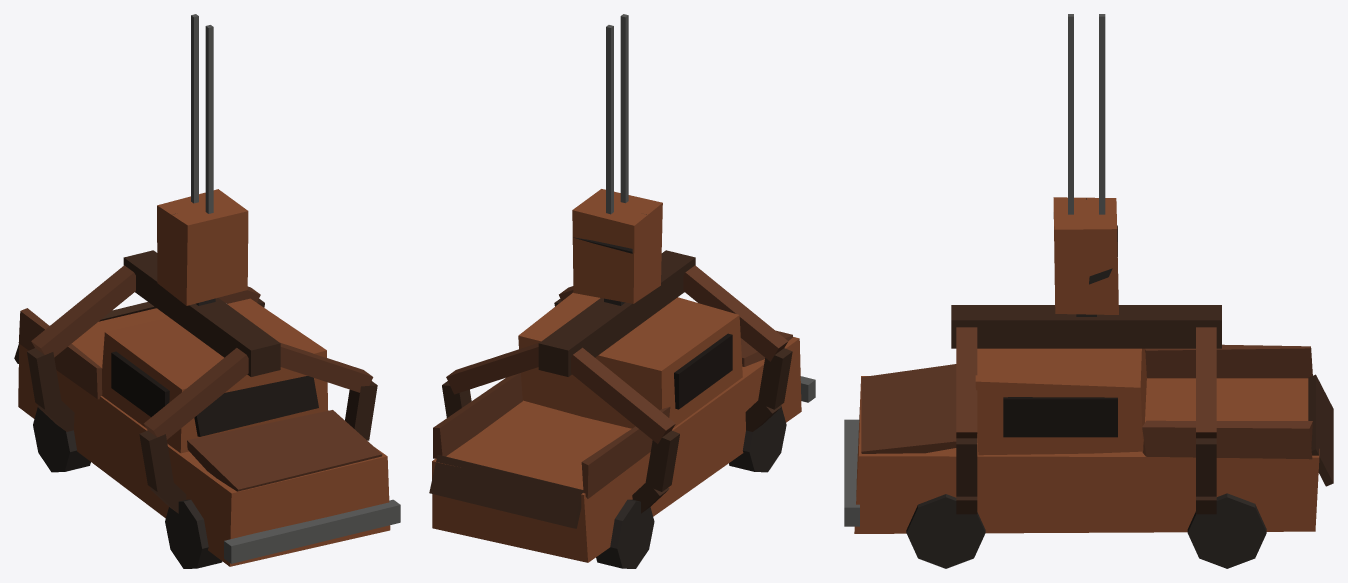
The model's file is crane_grab.glb.
The picture shows the model from 3 angles, left to right: view 1: azimuth 30°, elevation 25°; view 2: azimuth 150°, elevation 25°; view 3: azimuth 270°, elevation 25°; orthographic projection. The views are drawn at different scales.
Parts seen in each view (by area): view 1: crane_grab; view 2: crane_grab; view 3: crane_grab.
Boxes of the visible parts, x1,y1,x2,y2 form: crane_grab: [14, 14, 400, 568]; crane_grab: [429, 14, 815, 568]; crane_grab: [844, 14, 1333, 568].
Bounding box in the file's own units: 2.7 × 5.4 × 4.7.
